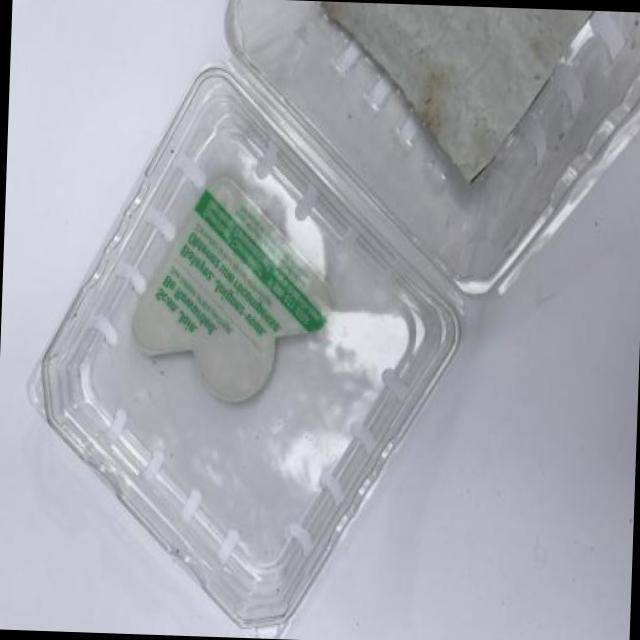Clamshell: (7, 0, 640, 640)
Label: (116, 166, 340, 414)
